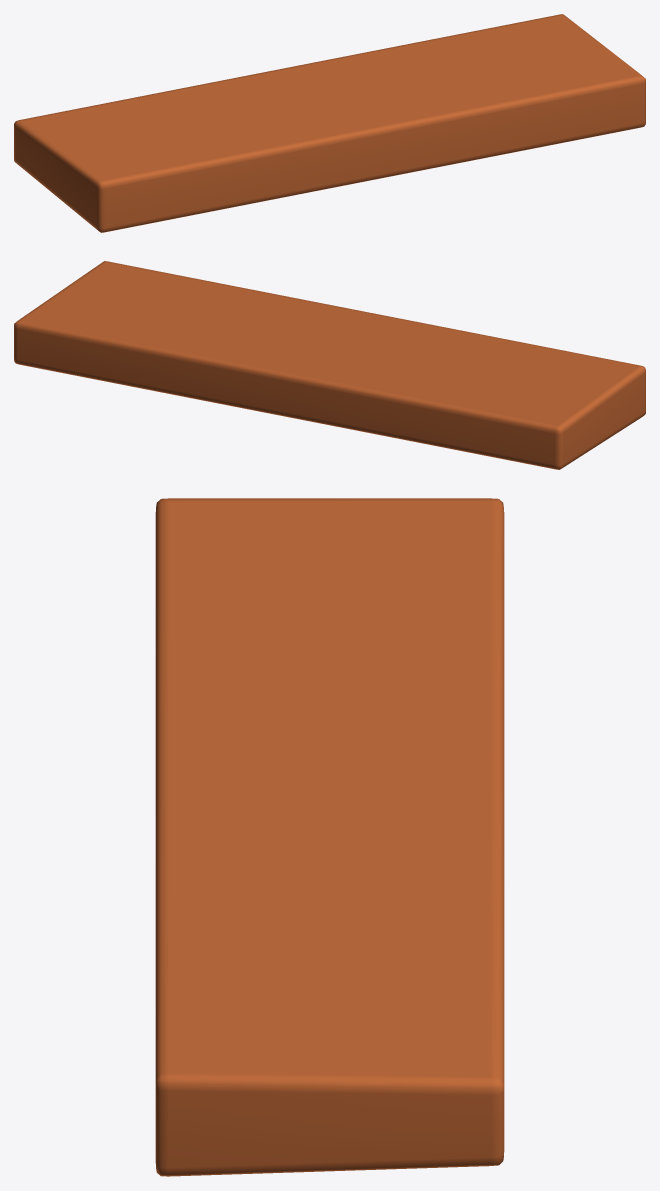
File: Farmhouse_ROOM_shelves02_v01.glb
The picture shows the model from 3 angles, top to bottom: view 1: azimuth 30°, elevation 25°; view 2: azimuth 150°, elevation 25°; view 3: azimuth 270°, elevation 25°; orthographic projection. The views are drawn at different scales.
Visible parts, largest first — view 1: Farmhouse_ROOM_shelves02_v01; view 2: Farmhouse_ROOM_shelves02_v01; view 3: Farmhouse_ROOM_shelves02_v01.
Boxes of the visible parts, box(x1,y1,x2,y2) form: Farmhouse_ROOM_shelves02_v01: box(14, 14, 645, 232); Farmhouse_ROOM_shelves02_v01: box(14, 261, 645, 469); Farmhouse_ROOM_shelves02_v01: box(155, 498, 504, 1176).
Size of the model in its own units: 1.94 by 0.2576 by 0.5357.
